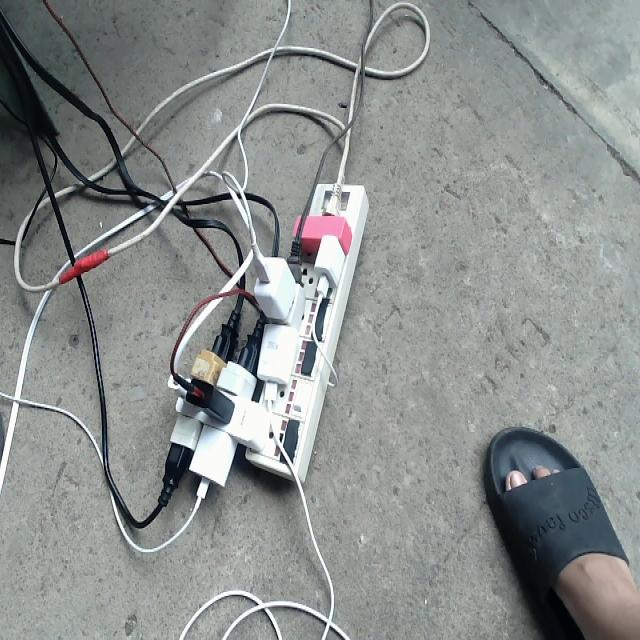-: (156, 177, 370, 487)
